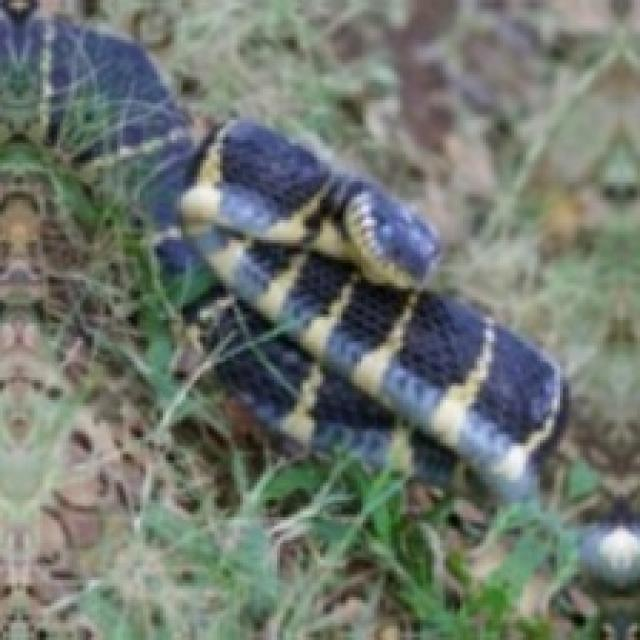mangrove cat snake: (0, 0, 565, 501), (177, 120, 563, 500)
